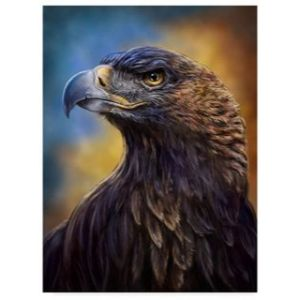eagle: (41, 44, 258, 293)
